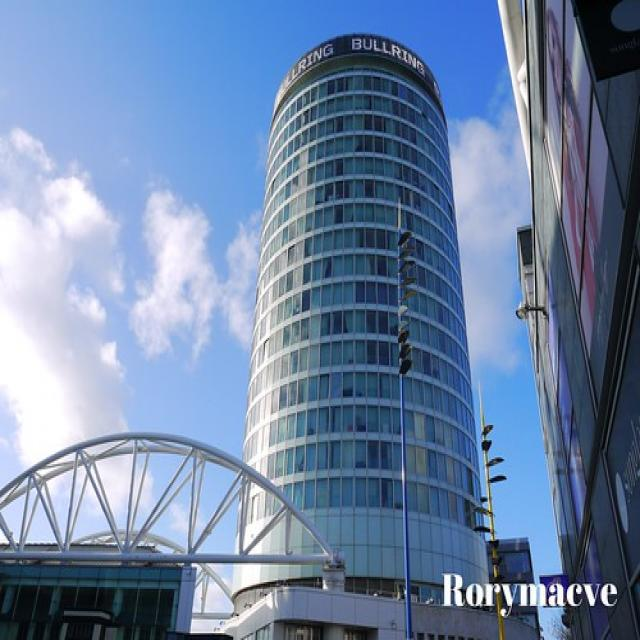Normal_building: (242, 24, 499, 640)
